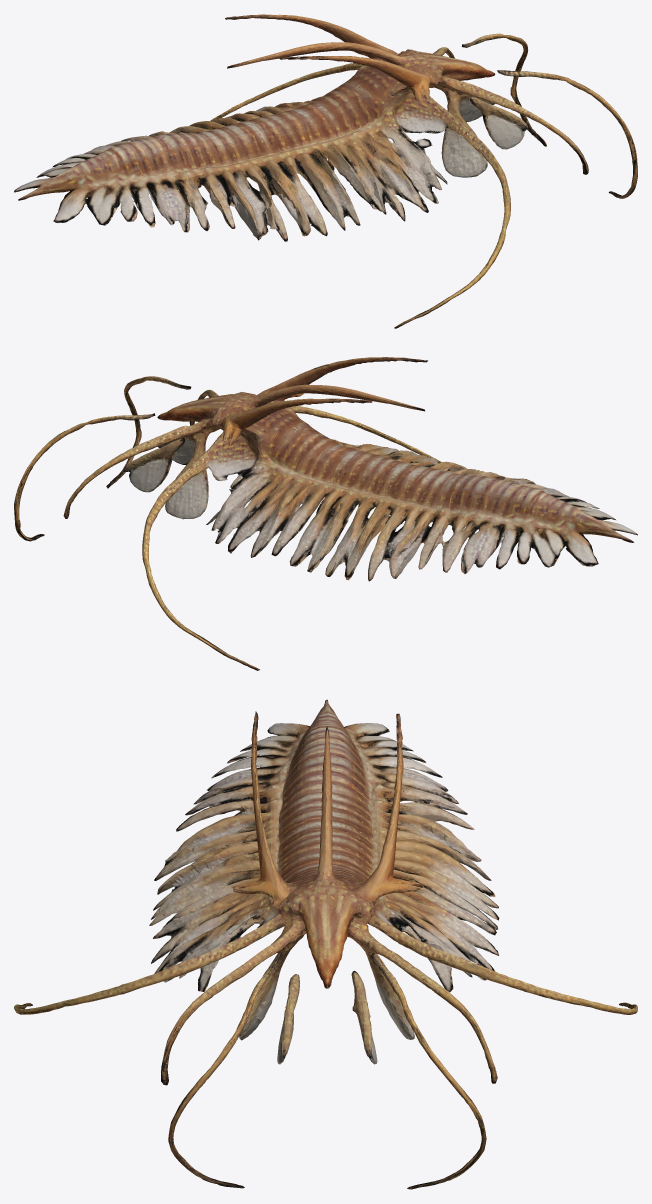
3 views of the same model, one above another, from view 1: azimuth 30°, elevation 25°; view 2: azimuth 150°, elevation 25°; view 3: azimuth 270°, elevation 25° (orthographic). The views are drawn at different scales.
Visible parts, largest first — view 1: world; view 2: world; view 3: world.
Part boxes in pixels (box(x1,y1,x2,y2)): world: box(14, 14, 637, 328); world: box(14, 357, 637, 670); world: box(14, 699, 637, 1189).
Bounding box in the file's own units: 0.9986 × 0.3641 × 0.7452.
Materials: 1 (1 with a texture image).
